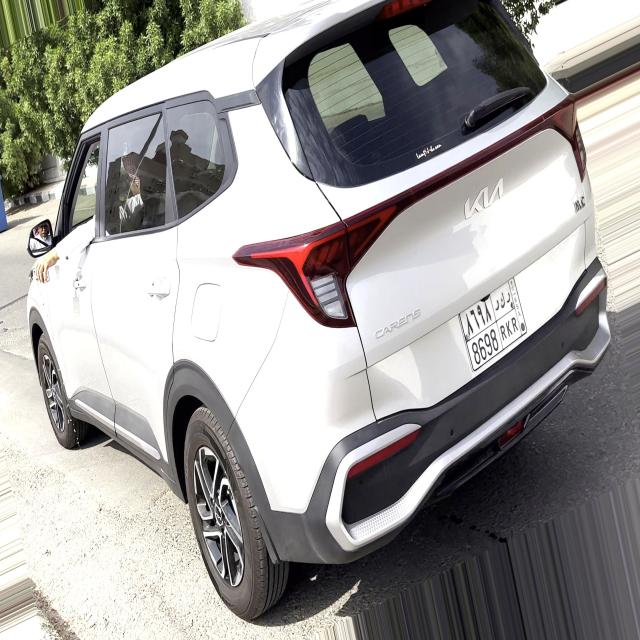Car-plate: (451, 263, 550, 394)
